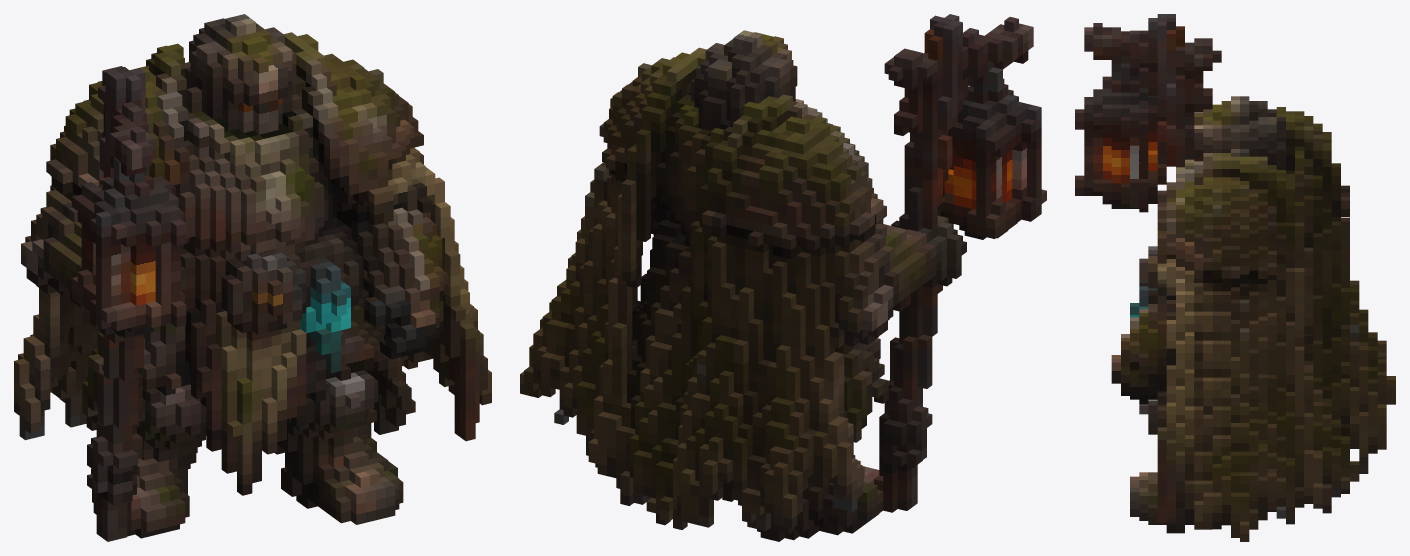
Rendered from u_fanal.glb.
3 views of the same model, side by side, from view 1: azimuth 30°, elevation 25°; view 2: azimuth 150°, elevation 25°; view 3: azimuth 270°, elevation 25° (orthographic). The views are drawn at different scales.
Visible parts, largest first — view 1: fanal_body; view 2: fanal_body; view 3: fanal_body.
Part boxes in pixels (box(x1,y1,x2,y2)): fanal_body: box(14, 14, 491, 541); fanal_body: box(520, 14, 1046, 541); fanal_body: box(1075, 14, 1395, 541).
Size of the model in its own units: 2.28 by 2.37 by 1.7.
1 material, 1 textured.
